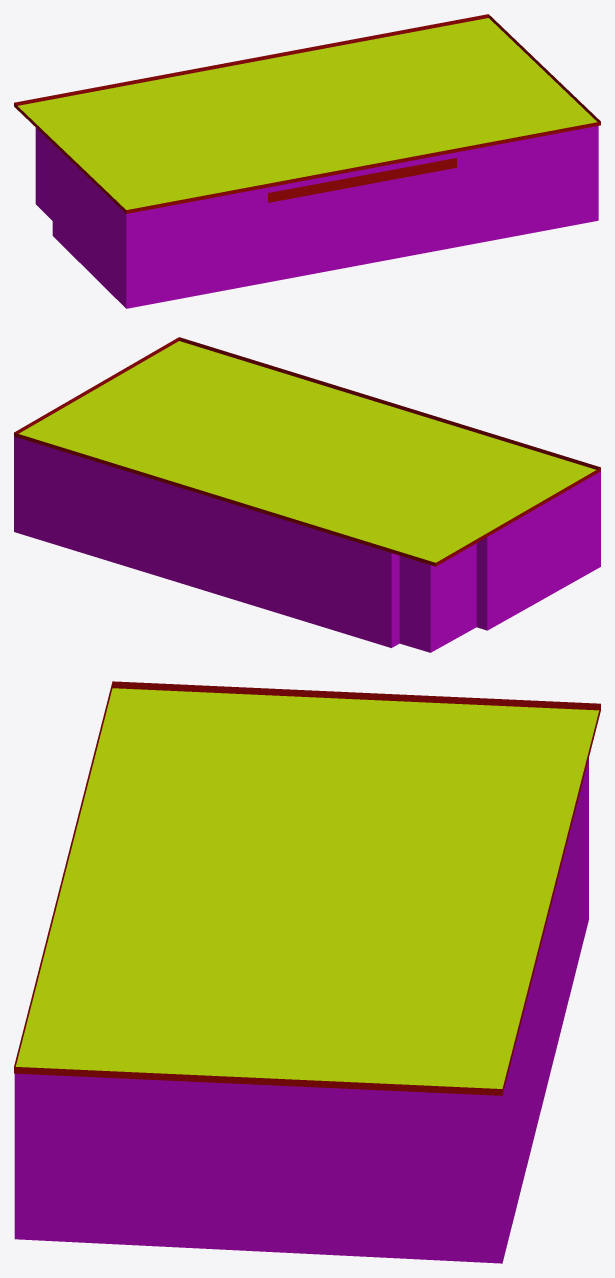
The picture shows the model from 3 angles, top to bottom: view 1: azimuth 30°, elevation 25°; view 2: azimuth 150°, elevation 25°; view 3: azimuth 270°, elevation 25°; orthographic projection. The views are drawn at different scales.
Visible parts, largest first — view 1: sc_71; view 2: sc_71; view 3: sc_71.
Part boxes in pixels (x1=…): sc_71: x1=14, y1=14, x2=600, y2=308; sc_71: x1=14, y1=337, x2=600, y2=652; sc_71: x1=14, y1=681, x2=600, y2=1263.
Size of the model in its own units: 44.97 by 8.98 by 27.36.
